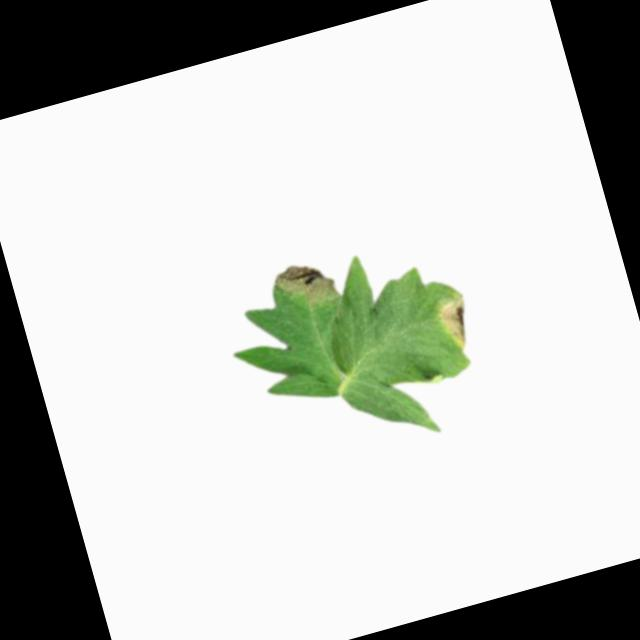Late_blight: (268, 254, 341, 318), (433, 294, 478, 355)
